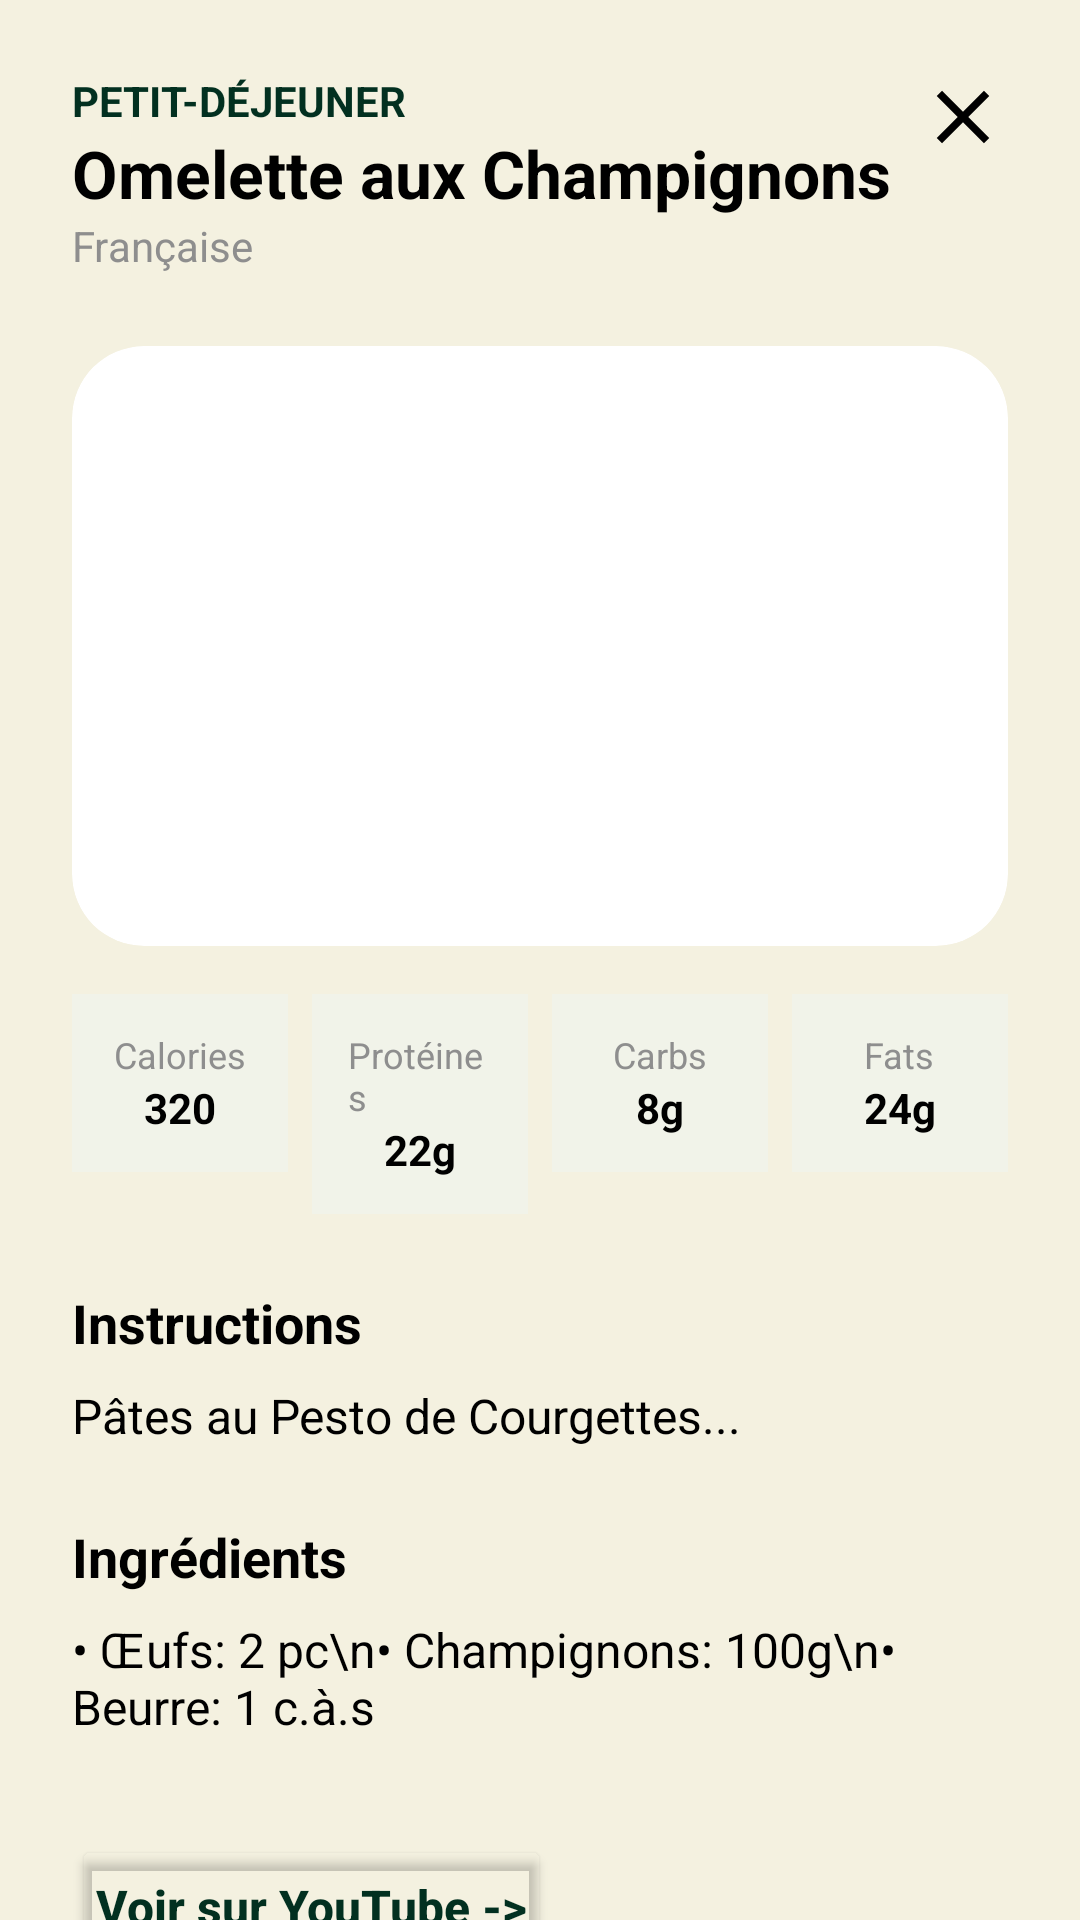

Locate icon controls on the screen. Image size 1080 × 1920, boxes as (x1, y1, x2, y2).
close: (937, 91, 989, 143)
